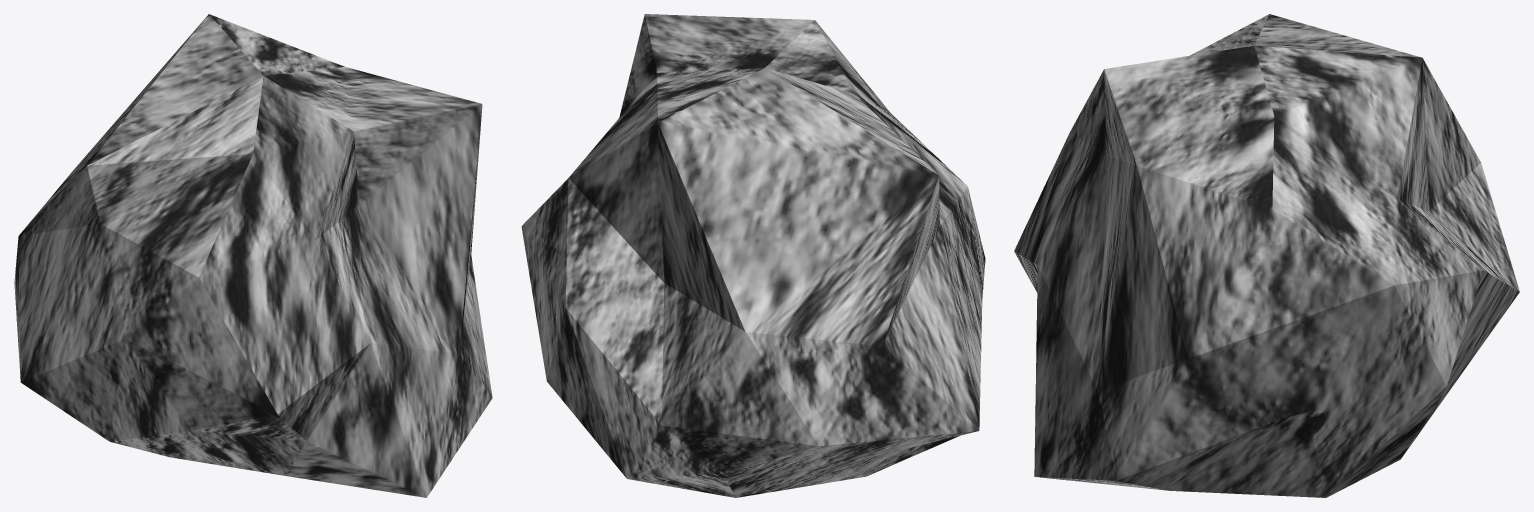
The model's file is meteoro3.obj.
The picture shows the model from 3 angles, left to right: view 1: azimuth 30°, elevation 25°; view 2: azimuth 150°, elevation 25°; view 3: azimuth 270°, elevation 25°; orthographic projection. The views are drawn at different scales.
Visible parts, largest first — view 1: meteoro_Icosphere; view 2: meteoro_Icosphere; view 3: meteoro_Icosphere.
Part boxes in pixels (x1,y1,x2,y2): meteoro_Icosphere: [14, 14, 492, 497]; meteoro_Icosphere: [521, 14, 985, 497]; meteoro_Icosphere: [1014, 14, 1519, 497].
Size of the model in its own units: 3.09 by 2.81 by 3.1.
